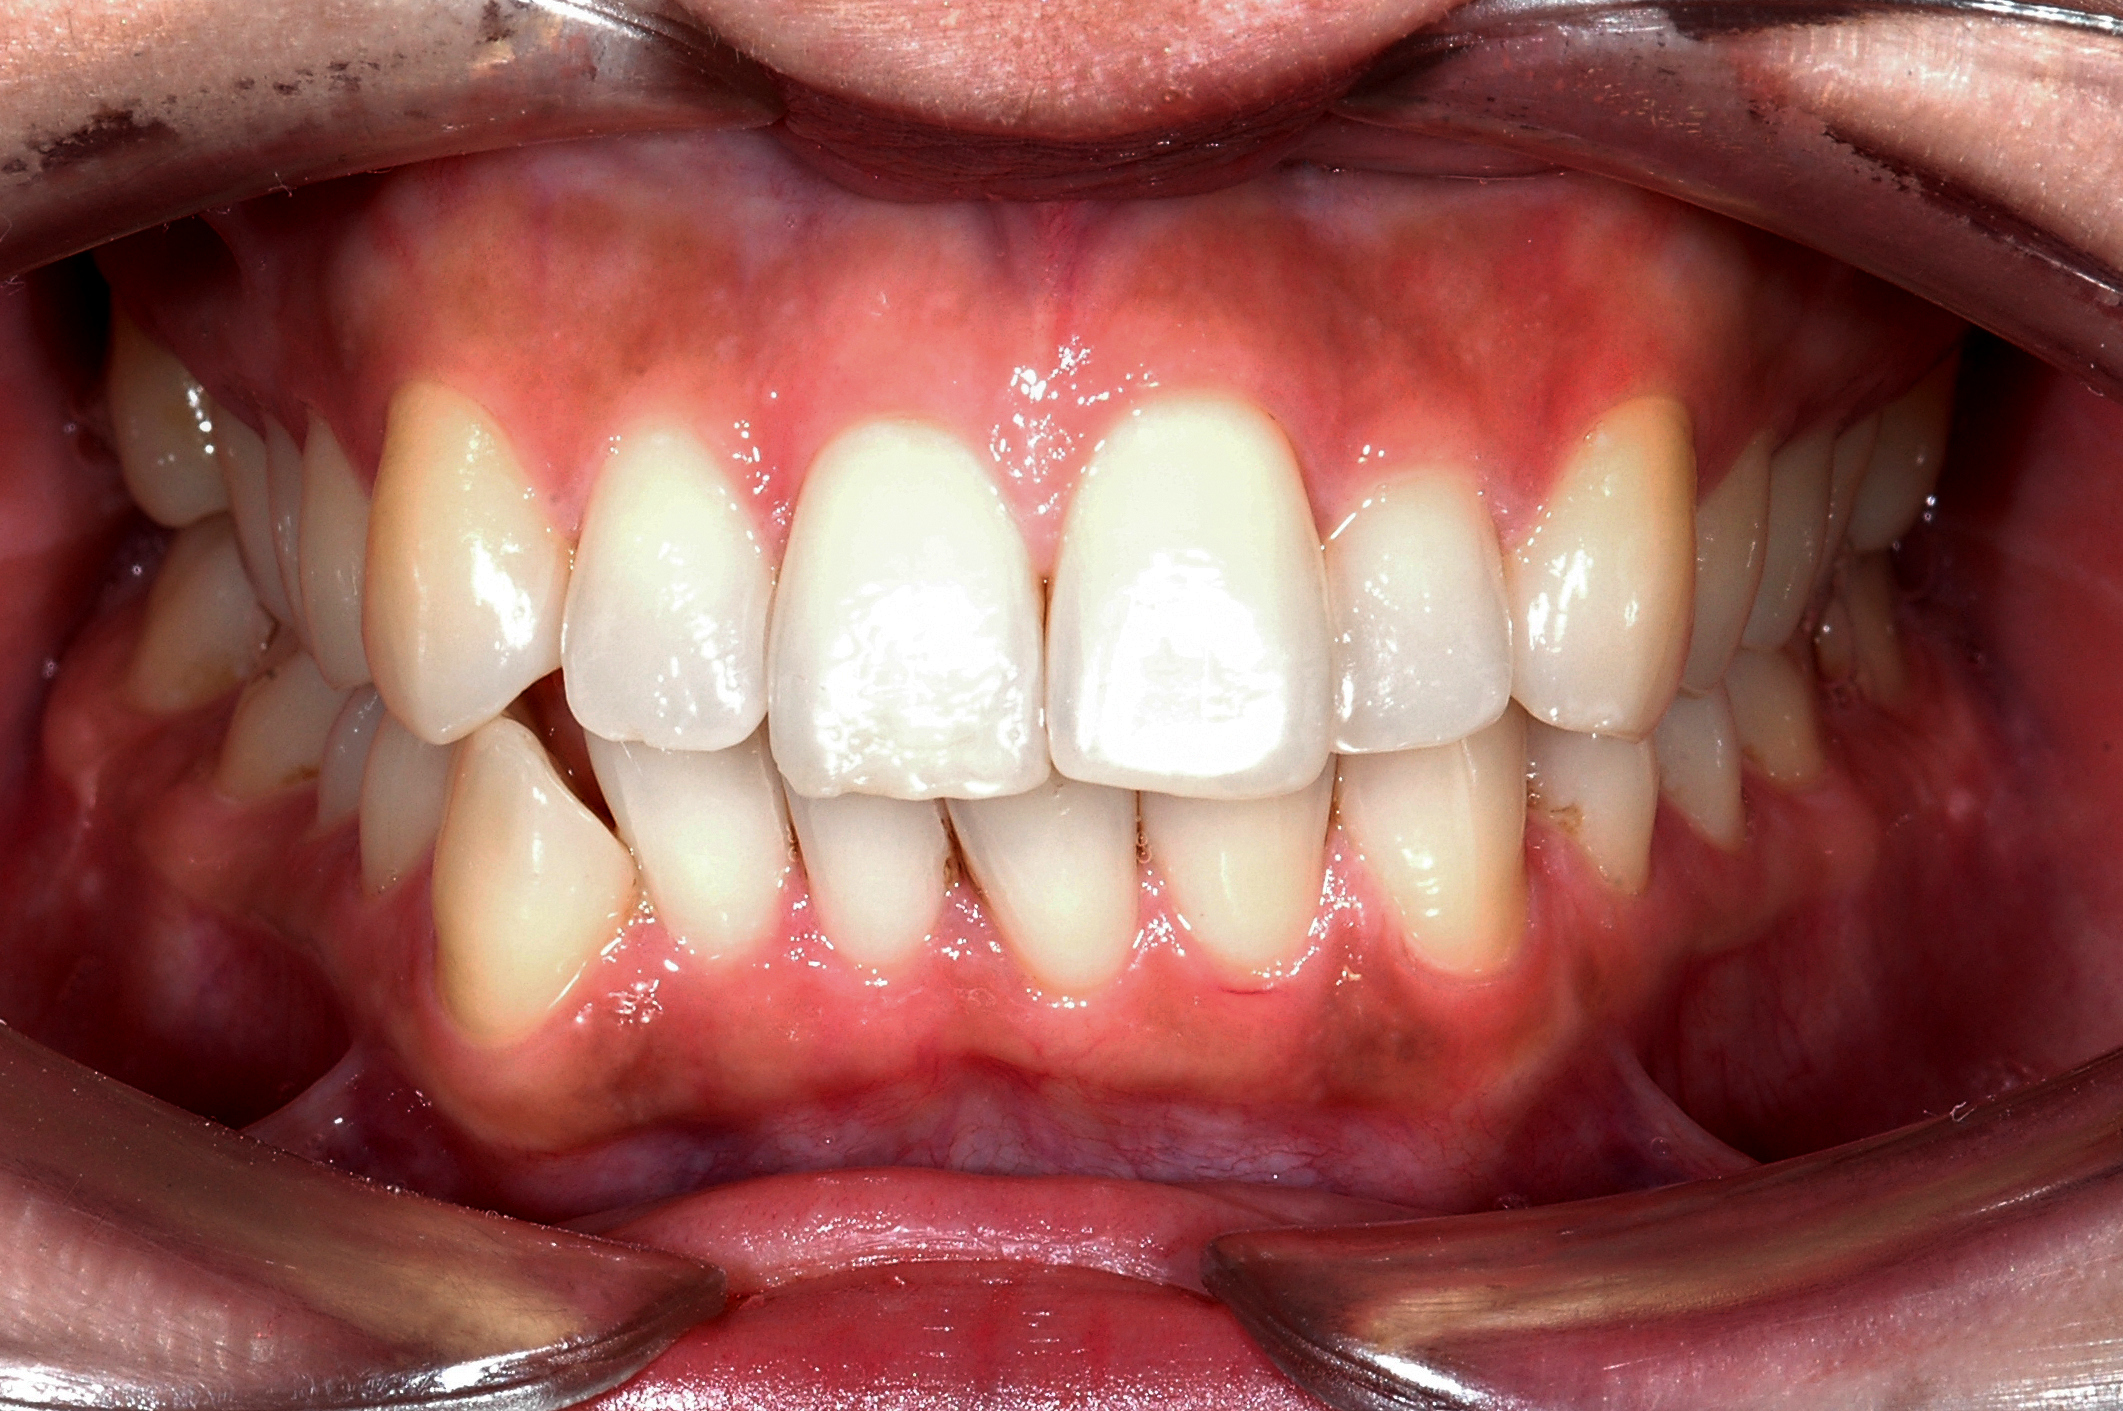UL1BC_healthy: (1698, 447, 1764, 685)
UL1M_healthy: (1825, 419, 1874, 603)
UL2BC_healthy: (1765, 431, 1825, 650)
UL2M_healthy: (1874, 375, 1948, 546)
ULCI_healthy: (1047, 403, 1329, 795)
ULC_healthy: (1514, 413, 1696, 735)
ULLI_healthy: (1332, 472, 1512, 754)
UR1BC_healthy: (302, 413, 362, 687)
UR1M_healthy: (222, 419, 272, 606)
UR2BC_healthy: (269, 411, 298, 620)
UR2M_healthy: (106, 307, 217, 528)
URCI_healthy: (770, 428, 1046, 798)
URC_healthy: (369, 398, 556, 737)
URLI_healthy: (558, 435, 764, 750)
